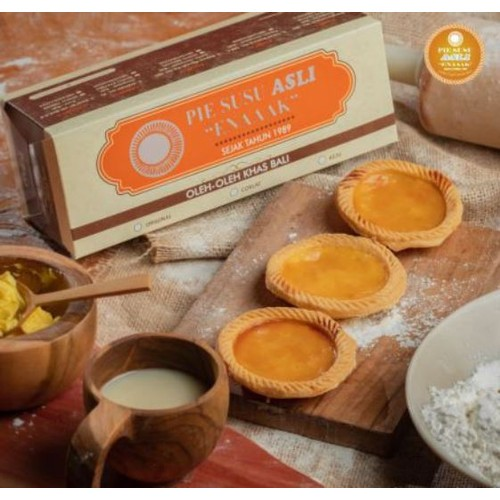pie susu: (257, 226, 432, 322), (215, 309, 362, 409), (334, 156, 465, 248)
